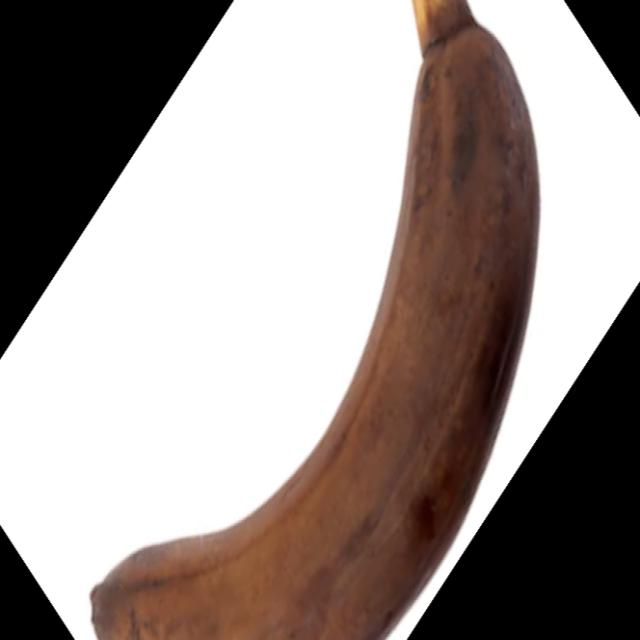Rotten: (88, 0, 541, 640)
